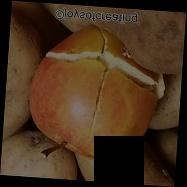rotten apple: (27, 25, 171, 160)
